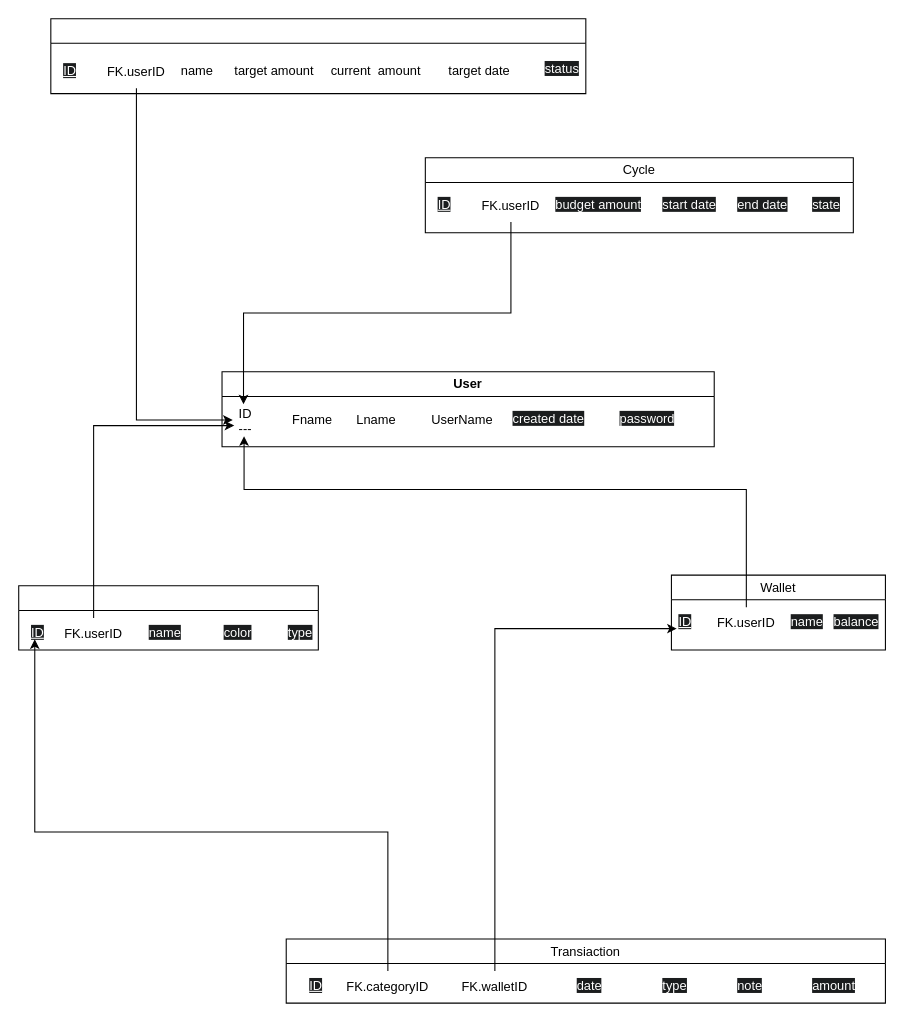
Image size: 904x1033. Some labels were removed from this diagram. Each missing label, with the box of its shape:
Category: (18, 585, 318, 650)
Saving Goal: (50, 18, 586, 94)
